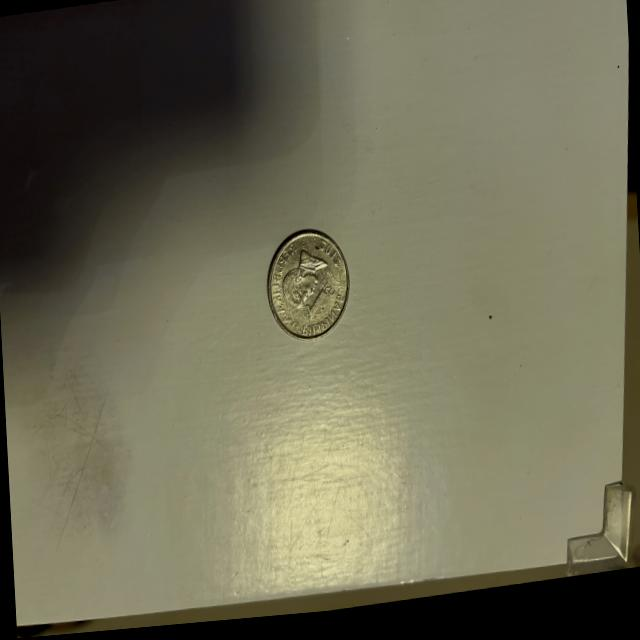1_Old_Front: (302, 284, 337, 328)
